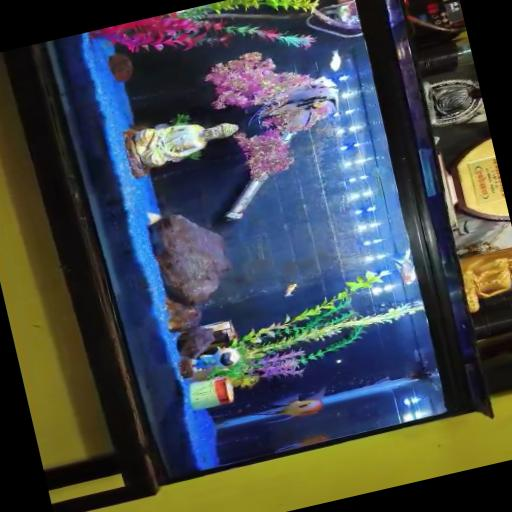Fish: (265, 76, 337, 127), (252, 388, 324, 422), (274, 434, 327, 452), (391, 249, 416, 284), (328, 50, 340, 71), (283, 283, 296, 296)
